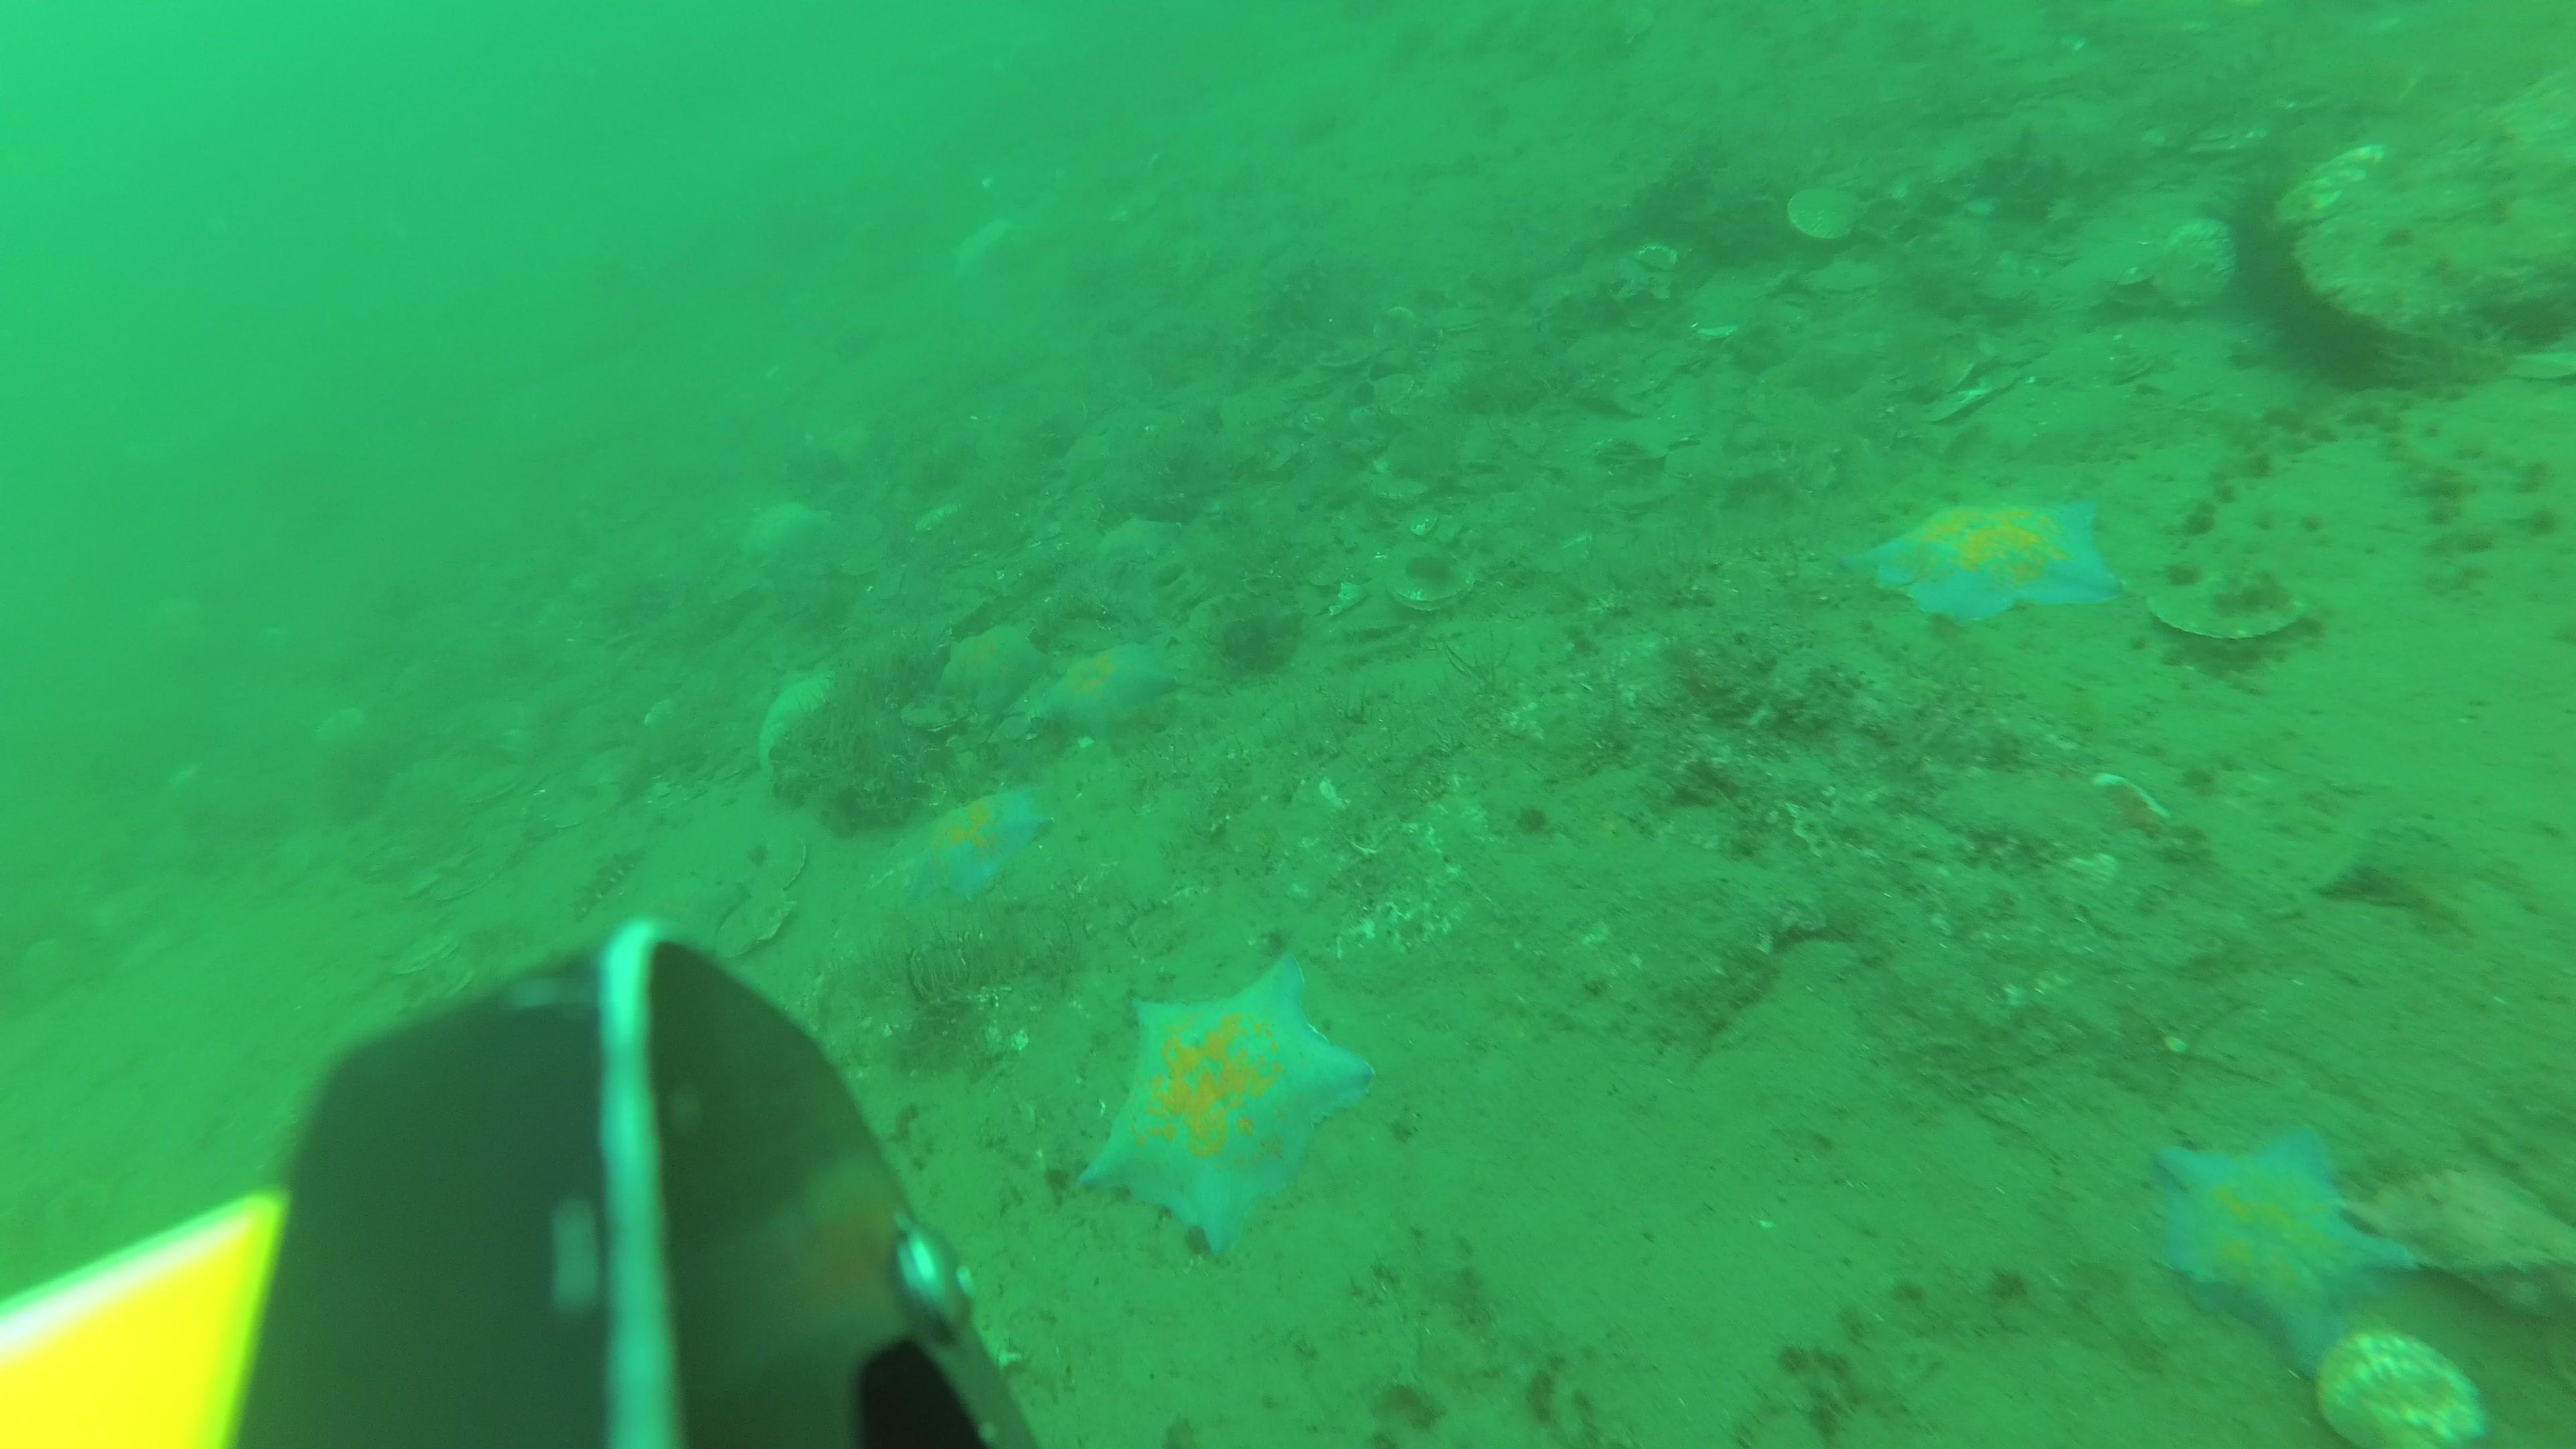echinus: (2222, 186, 2335, 303), (2279, 287, 2392, 395)
holothurian: (577, 840, 644, 916)
scallop: (2319, 1338, 2486, 1449), (2153, 577, 2305, 644), (1382, 541, 1472, 614), (717, 888, 794, 959), (407, 966, 478, 1028), (1790, 186, 1865, 241), (752, 830, 805, 901), (1815, 262, 1882, 308), (464, 763, 524, 809), (396, 934, 453, 971)
starfish: (1083, 945, 1375, 1261), (2153, 1122, 2413, 1376), (1849, 499, 2112, 625), (906, 787, 1053, 911), (1035, 639, 1178, 743), (947, 630, 1044, 699), (1097, 513, 1180, 568)
